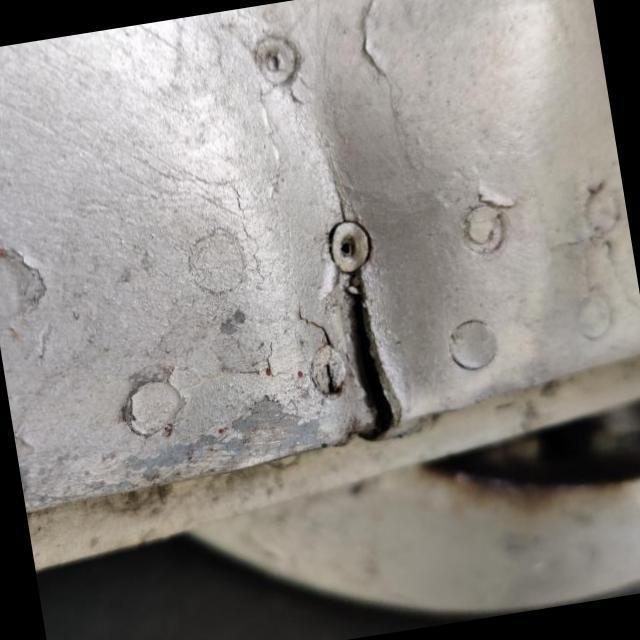Rupture: (286, 237, 444, 465)
